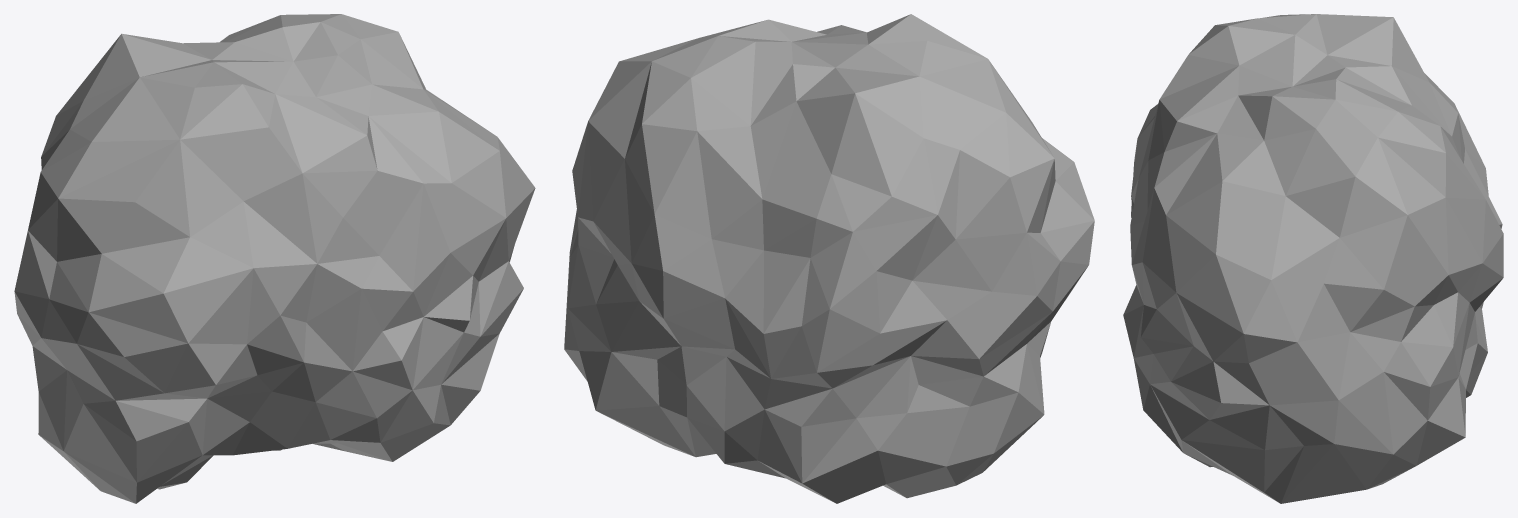
File: Stone_2.fbx
3 views of the same model, side by side, from view 1: azimuth 30°, elevation 25°; view 2: azimuth 150°, elevation 25°; view 3: azimuth 270°, elevation 25° (orthographic). The views are drawn at different scales.
Parts seen in each view (by area): view 1: Stone_2; view 2: Stone_2; view 3: Stone_2.
Part boxes in pixels (x1,y1,x2,y2): Stone_2: (14,14,535,503); Stone_2: (564,14,1094,503); Stone_2: (1123,14,1503,503).
Size of the model in its own units: 3.03 by 2.62 by 2.24.
